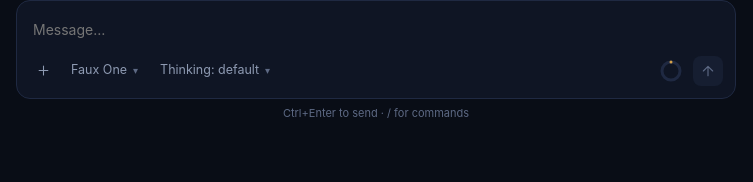
Test: Composer › slash commands (Task 7) › selecting an expand template from the menu inserts `/review ` and does NOT submit
Step 1. Type "/re" into the text box with placeholder "Message…" → (376, 30), box top-left (29, 13), bottom-right (723, 47)
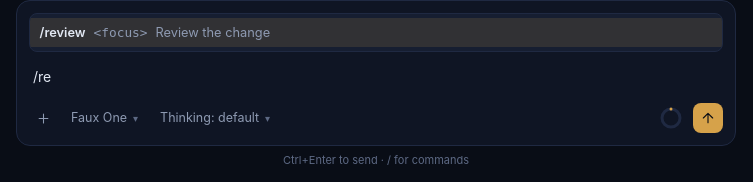
Step 2. Click the option "/review <focus> Review the change" → (65, 32), box top-left (30, 18), bottom-right (722, 47)
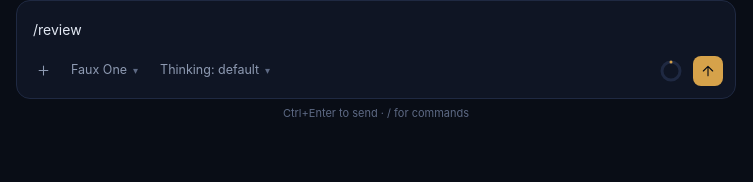
Expected: the text box holds "/review ", top-left (29, 13), bottom-right (723, 47)
